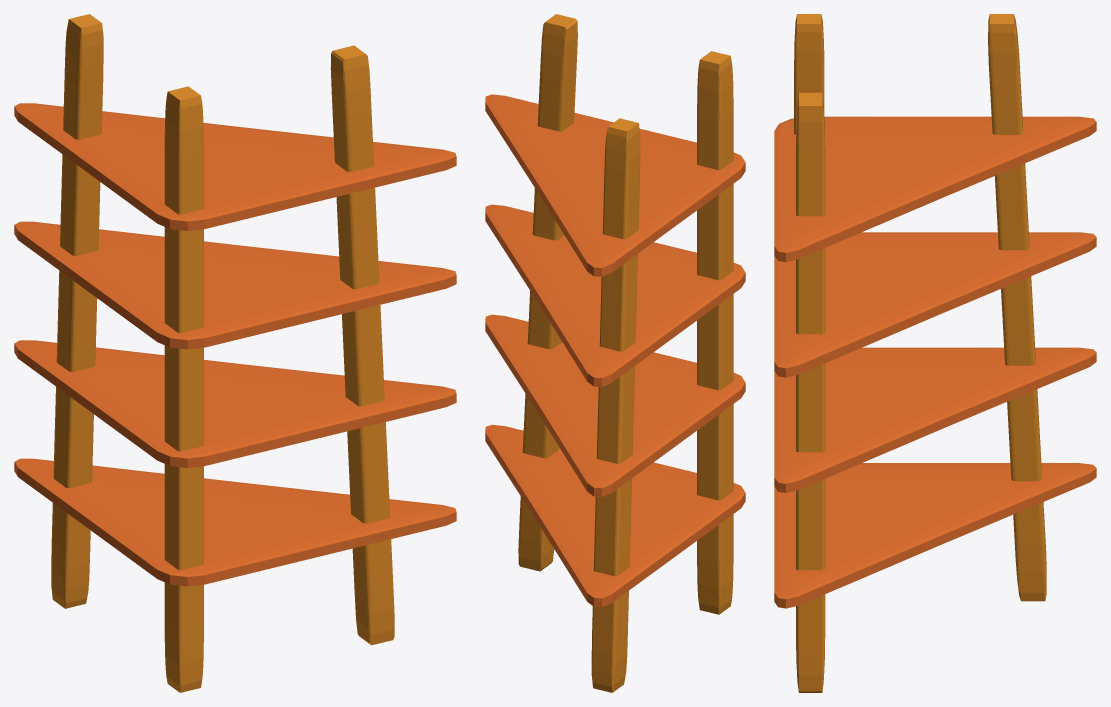
File: 1006_bathroom_triangleshelf.fbx
3 views of the same model, side by side, from view 1: azimuth 30°, elevation 25°; view 2: azimuth 150°, elevation 25°; view 3: azimuth 270°, elevation 25° (orthographic). The views are drawn at different scales.
Parts seen in each view (by area): view 1: triangle, triangle.001, triangle.002, triangle.003, Cube.009, Cube.010, Cube.008; view 2: triangle.003, triangle.002, triangle.001, triangle, Cube.008, Cube.009, Cube.010; view 3: triangle.003, triangle.001, triangle.002, triangle, Cube.008, Cube.010, Cube.009.
Boxes of the visible parts, <box> form: triangle: <box>14,458,456,586</box>; triangle.001: <box>14,340,456,467</box>; triangle.002: <box>14,221,456,349</box>; triangle.003: <box>14,103,456,230</box>; Cube.009: <box>164,86,203,692</box>; Cube.010: <box>330,45,394,645</box>; Cube.008: <box>51,14,103,608</box>; triangle.003: <box>485,94,745,276</box>; triangle.002: <box>485,204,745,386</box>; triangle.001: <box>485,314,745,496</box>; triangle: <box>485,424,745,606</box>; Cube.008: <box>591,118,640,692</box>; Cube.009: <box>697,51,733,614</box>; Cube.010: <box>518,14,577,571</box>; triangle.003: <box>774,116,1096,262</box>; triangle.001: <box>774,347,1096,492</box>; triangle.002: <box>774,232,1096,377</box>; triangle: <box>774,463,1096,608</box>; Cube.008: <box>988,14,1046,601</box>; Cube.010: <box>796,92,825,692</box>; Cube.009: <box>794,14,824,134</box>.
Bounding box in the file's own units: 75.93 × 150 × 75.93.
